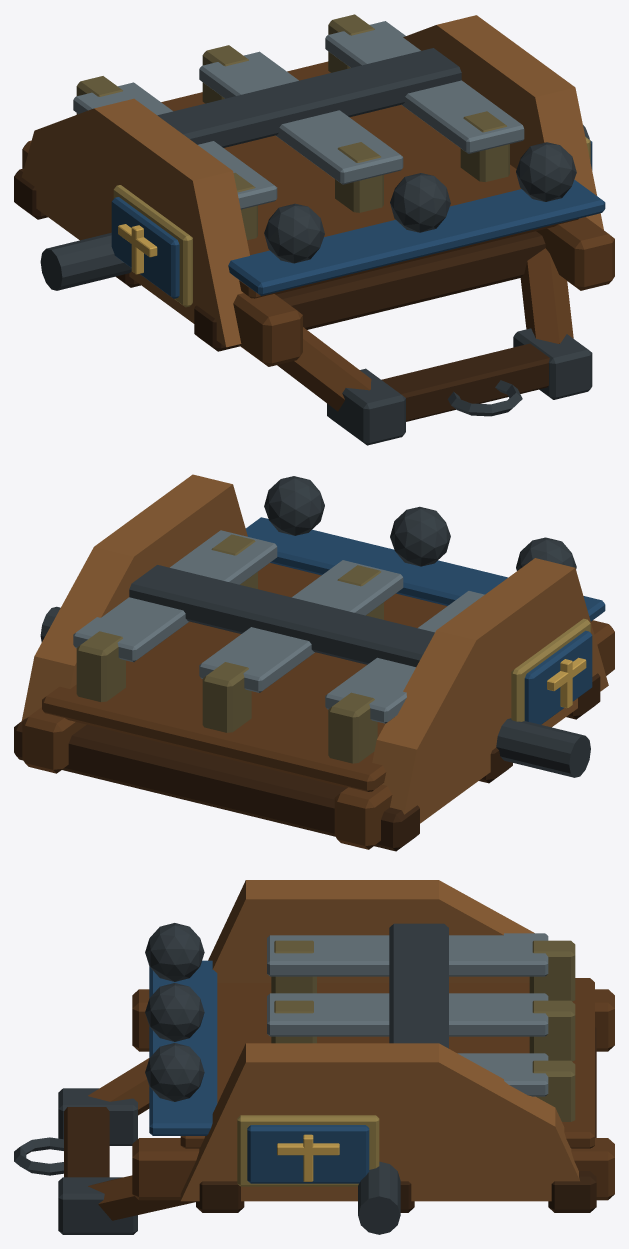
Rendered from Body.glb.
3 views of the same model, one above another, from view 1: azimuth 30°, elevation 25°; view 2: azimuth 150°, elevation 25°; view 3: azimuth 270°, elevation 25° (orthographic). The views are drawn at different scales.
Parts seen in each view (by area): view 1: Sculpture; view 2: Sculpture; view 3: Sculpture.
Boxes of the visible parts, x1,y1,x2,y2 form: Sculpture: [14, 14, 614, 445]; Sculpture: [14, 474, 614, 851]; Sculpture: [14, 880, 614, 1234].
Bounding box in the file's own units: 2.1 × 0.82 × 2.12.
